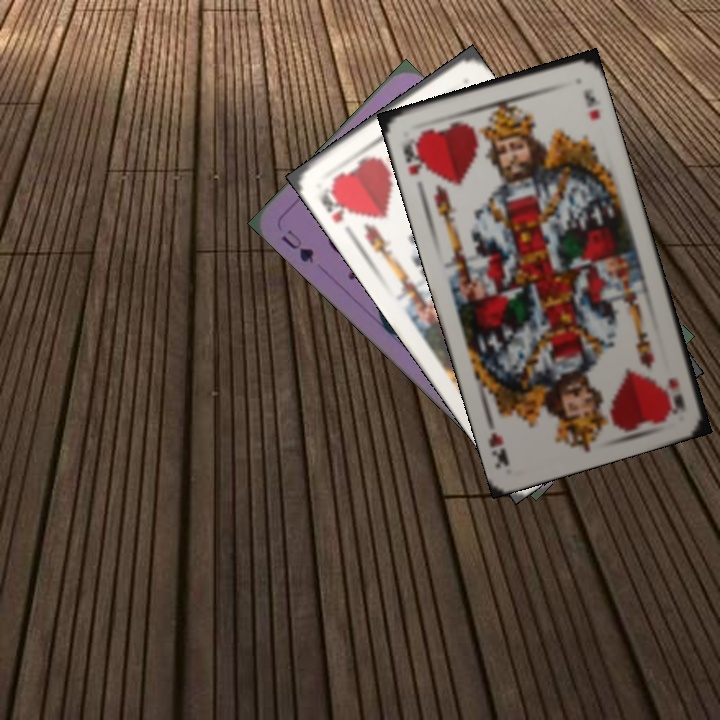GU: (277, 225, 317, 266)
HK: (316, 180, 353, 226), (398, 132, 430, 179), (663, 374, 688, 416)
